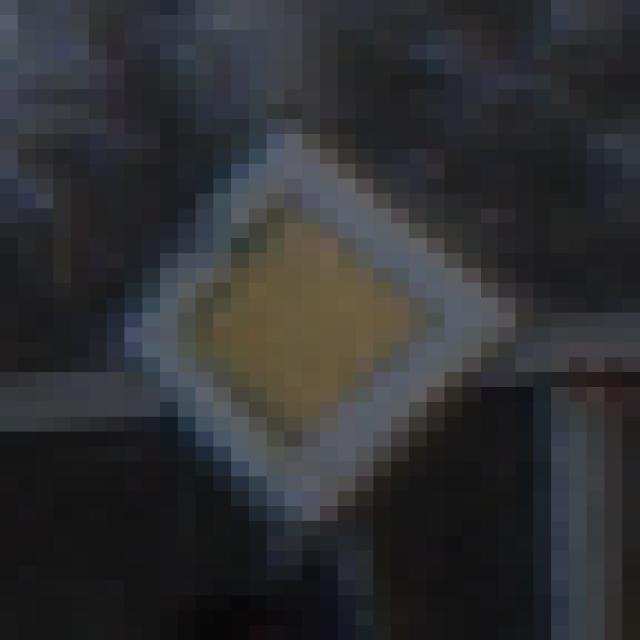Main Road: (90, 76, 552, 567)
